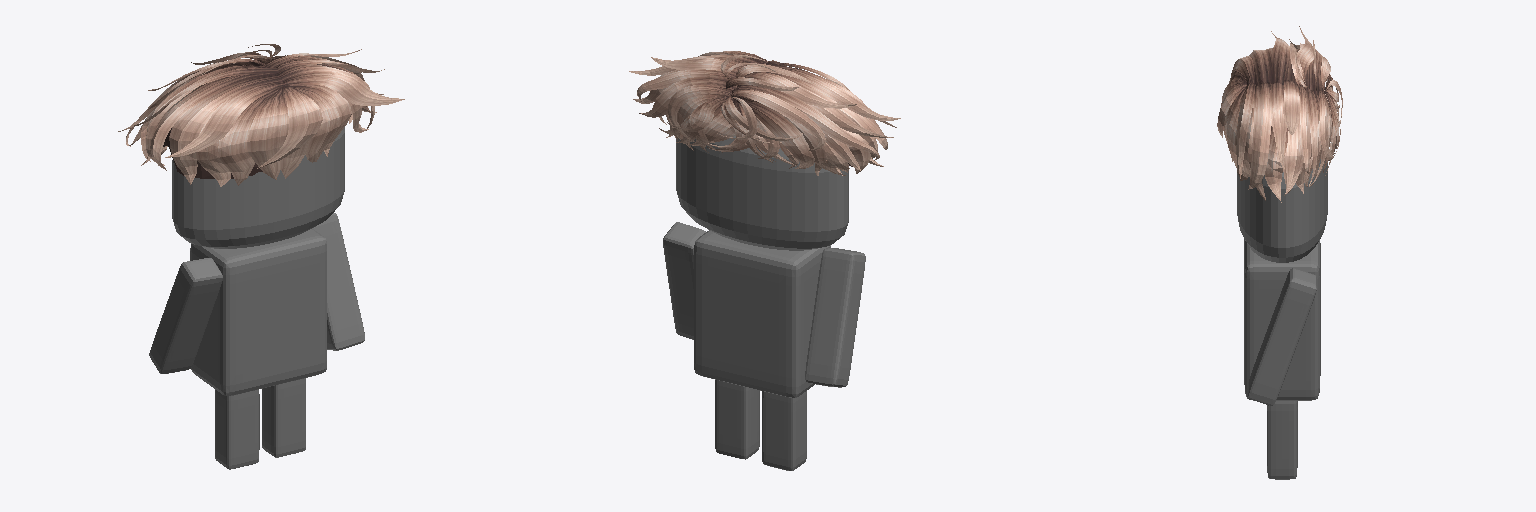
The picture shows the model from 3 angles: view 1: azimuth 30°, elevation 25°; view 2: azimuth 150°, elevation 25°; view 3: azimuth 270°, elevation 25°; orthographic projection.
Visible parts, largest first — view 1: Handle2, Torso, Head, Left_Arm, Right_Arm, Left_Leg, Right_Leg; view 2: Handle2, Torso, Head, Left_Arm, Left_Leg, Right_Leg, Right_Arm; view 3: Handle2, Torso, Head, Right_Arm, Right_Leg.
Part boxes in pixels (bbox=[...]): Handle2: bbox=[118, 44, 404, 186]; Torso: bbox=[190, 228, 326, 395]; Head: bbox=[172, 127, 344, 248]; Left_Arm: bbox=[149, 258, 222, 373]; Right_Arm: bbox=[313, 213, 364, 350]; Left_Leg: bbox=[215, 390, 259, 469]; Right_Leg: bbox=[262, 378, 305, 457]; Handle2: bbox=[629, 51, 900, 175]; Torso: bbox=[694, 230, 830, 397]; Head: bbox=[676, 136, 848, 250]; Left_Arm: bbox=[805, 248, 865, 387]; Left_Leg: bbox=[762, 391, 806, 470]; Right_Leg: bbox=[715, 380, 759, 459]; Right_Arm: bbox=[663, 222, 705, 339]; Handle2: bbox=[1217, 26, 1342, 202]; Torso: bbox=[1244, 239, 1320, 400]; Head: bbox=[1237, 159, 1327, 262]; Right_Arm: bbox=[1248, 268, 1316, 405]; Right_Leg: bbox=[1267, 401, 1297, 479].
Size of the model in its own units: 4.2 by 5.88 by 1.64.
Materials: 2 (1 with a texture image).